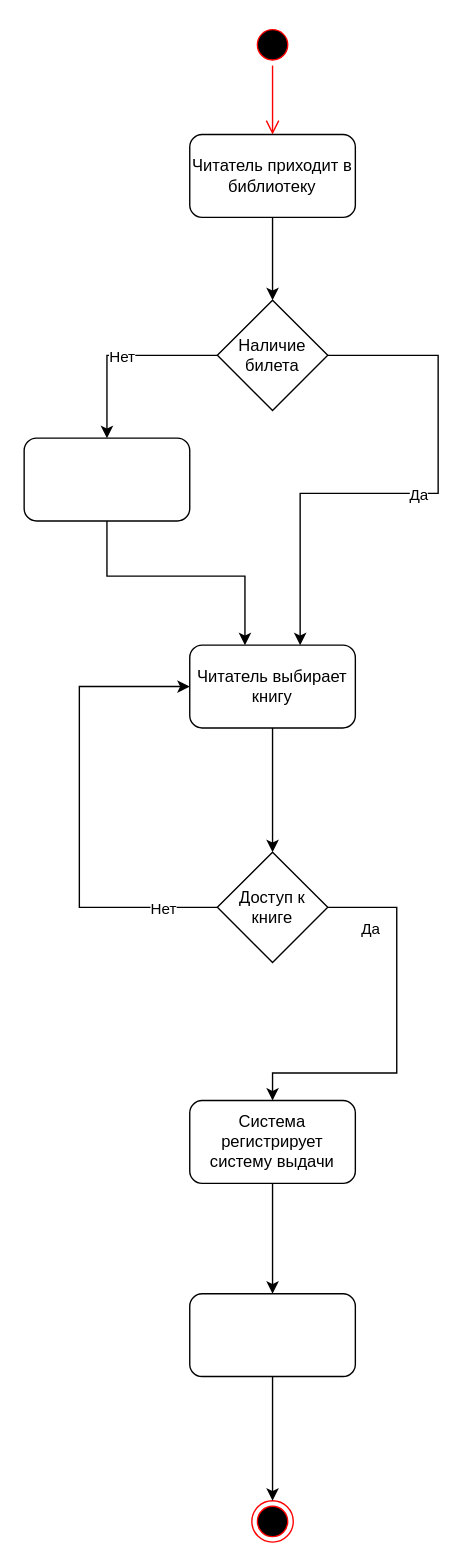
The diagram is 473 pixels wide and 1566 high, and some of its shapes have lost their labels. Each missing label, with the centre of its shape:
Оформление билета: (x=106, y=479)
Читатель получает книгу: (x=271, y=1334)
